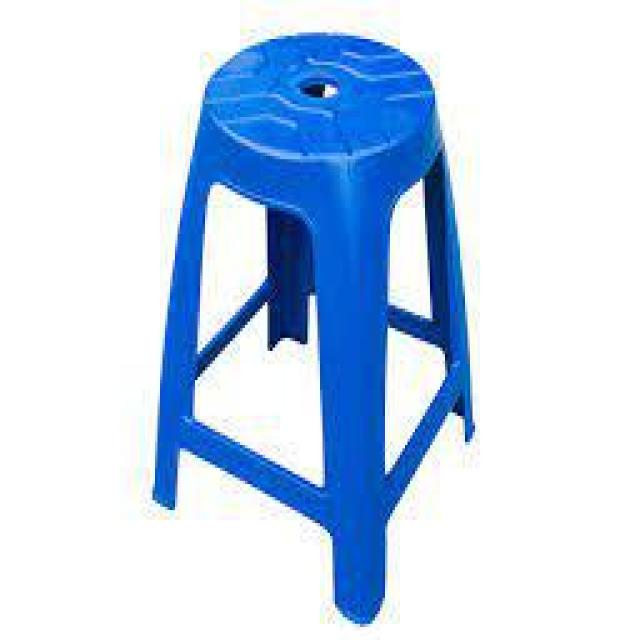chair: (153, 21, 505, 596)
